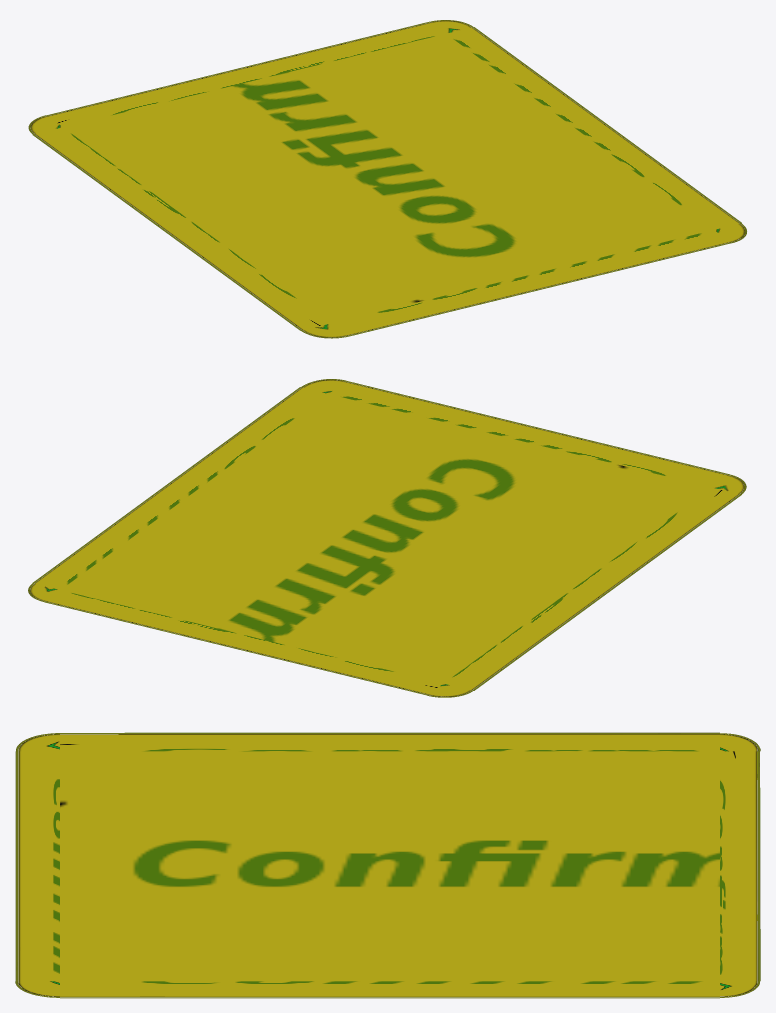
The model's file is gui_element.fbx.
3 renders of one model, top to bottom at view 1: azimuth 30°, elevation 25°; view 2: azimuth 150°, elevation 25°; view 3: azimuth 270°, elevation 25°, orthographic. The views are drawn at different scales.
Parts seen in each view (by area): view 1: Plane; view 2: Plane; view 3: Plane.
Boxes of the visible parts, left/top/right/bottom form: Plane: left=28, top=20, right=746, bottom=338; Plane: left=28, top=379, right=746, bottom=697; Plane: left=15, top=732, right=760, bottom=998.
Bounding box in the file's own units: 5.03 × 9.7e-07 × 5.96.
